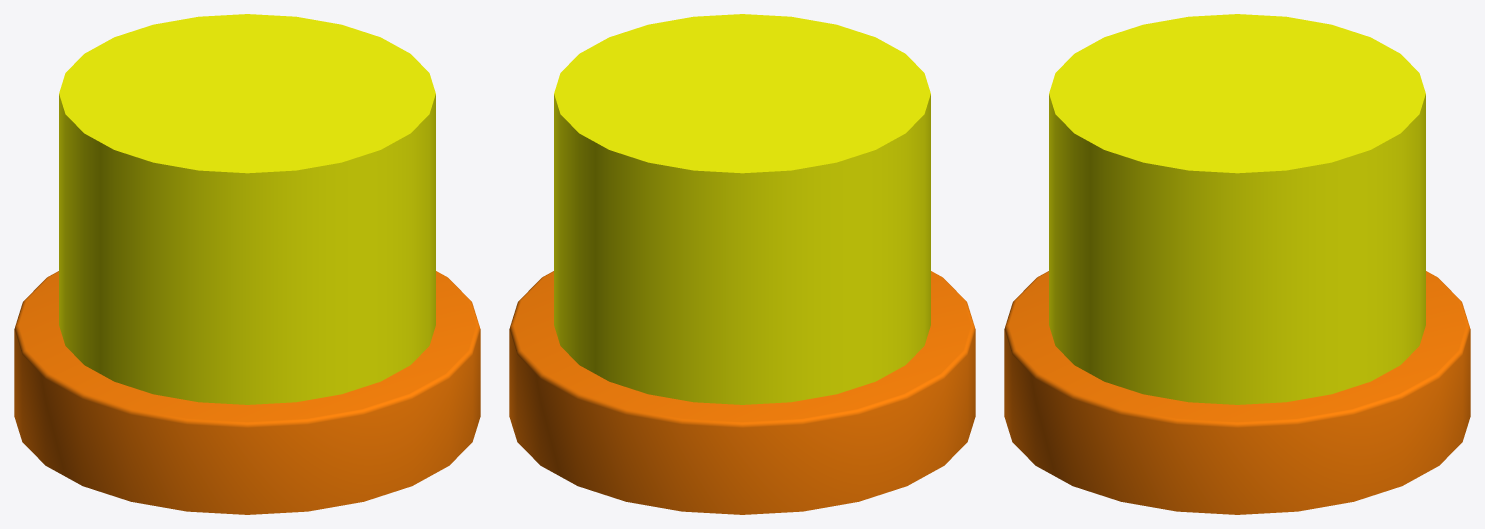
The model's file is ground trap.fbx.
3 renders of one model, left to right at view 1: azimuth 30°, elevation 25°; view 2: azimuth 150°, elevation 25°; view 3: azimuth 270°, elevation 25°, orthographic.
Visible parts, largest first — view 1: ground trap 1, ground trap; view 2: ground trap 1, ground trap; view 3: ground trap 1, ground trap.
Boxes of the visible parts, x1,y1,x2,y2 form: ground trap 1: (59,14,435,404); ground trap: (14,271,480,514); ground trap 1: (554,14,930,404); ground trap: (509,271,975,514); ground trap 1: (1049,14,1425,404); ground trap: (1004,271,1470,514).
Bounding box in the file's own units: 84.69 × 64.7 × 84.69.
